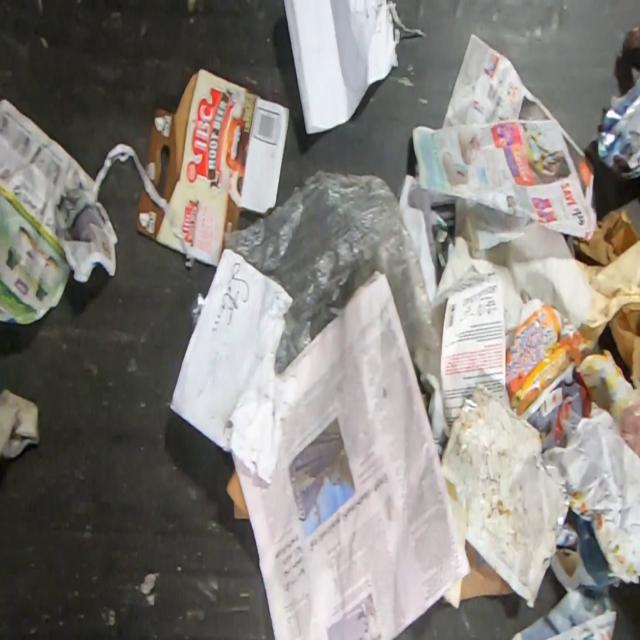cardboard: (143, 65, 292, 268), (459, 534, 523, 601), (136, 182, 187, 258), (223, 466, 252, 522)
soft_plastic: (225, 169, 448, 383), (610, 395, 640, 458), (189, 291, 208, 338)
